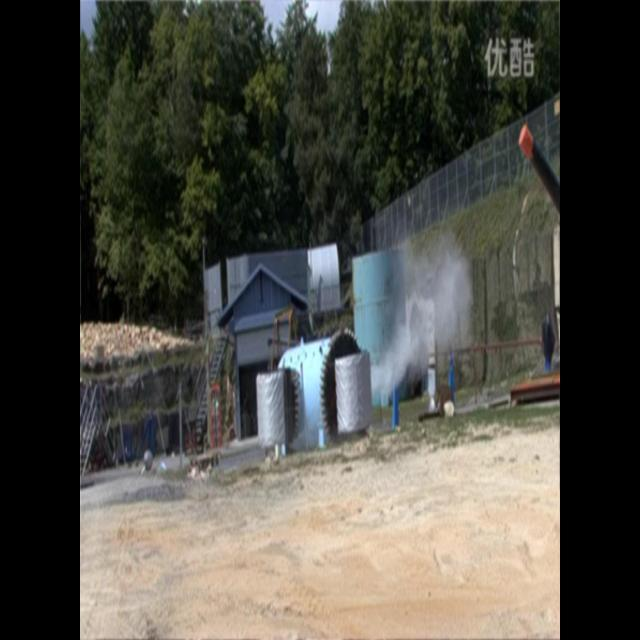Smoke: (370, 234, 476, 402)
